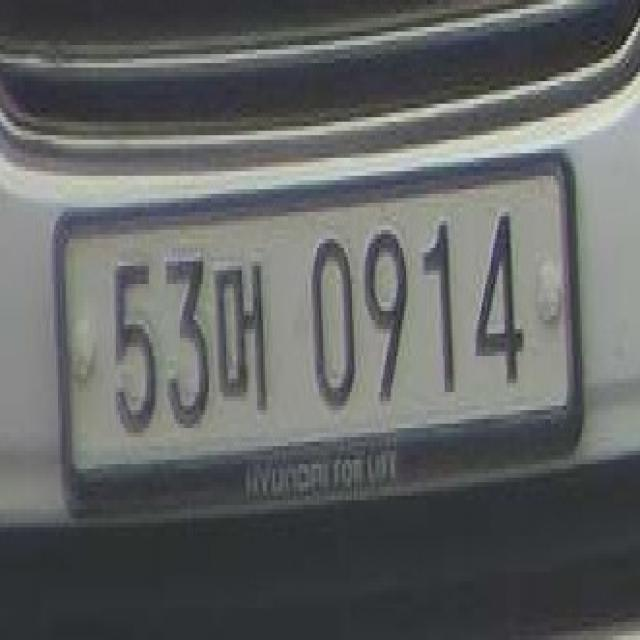0: (304, 221, 366, 433)
1: (416, 212, 472, 410)
3: (162, 252, 216, 456)
4: (479, 212, 534, 401)
5: (112, 257, 164, 451)
9: (359, 212, 414, 406)
license_plate: (50, 149, 584, 532)
meo: (211, 257, 278, 419)
